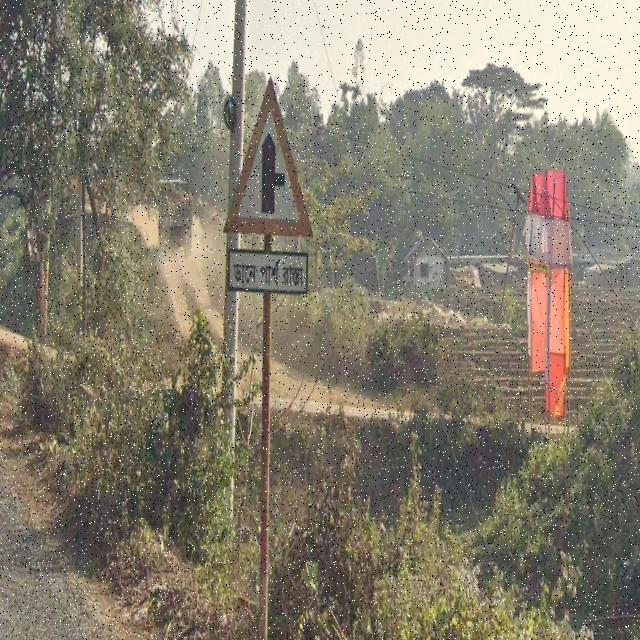Side-road-right: (223, 78, 314, 293)
